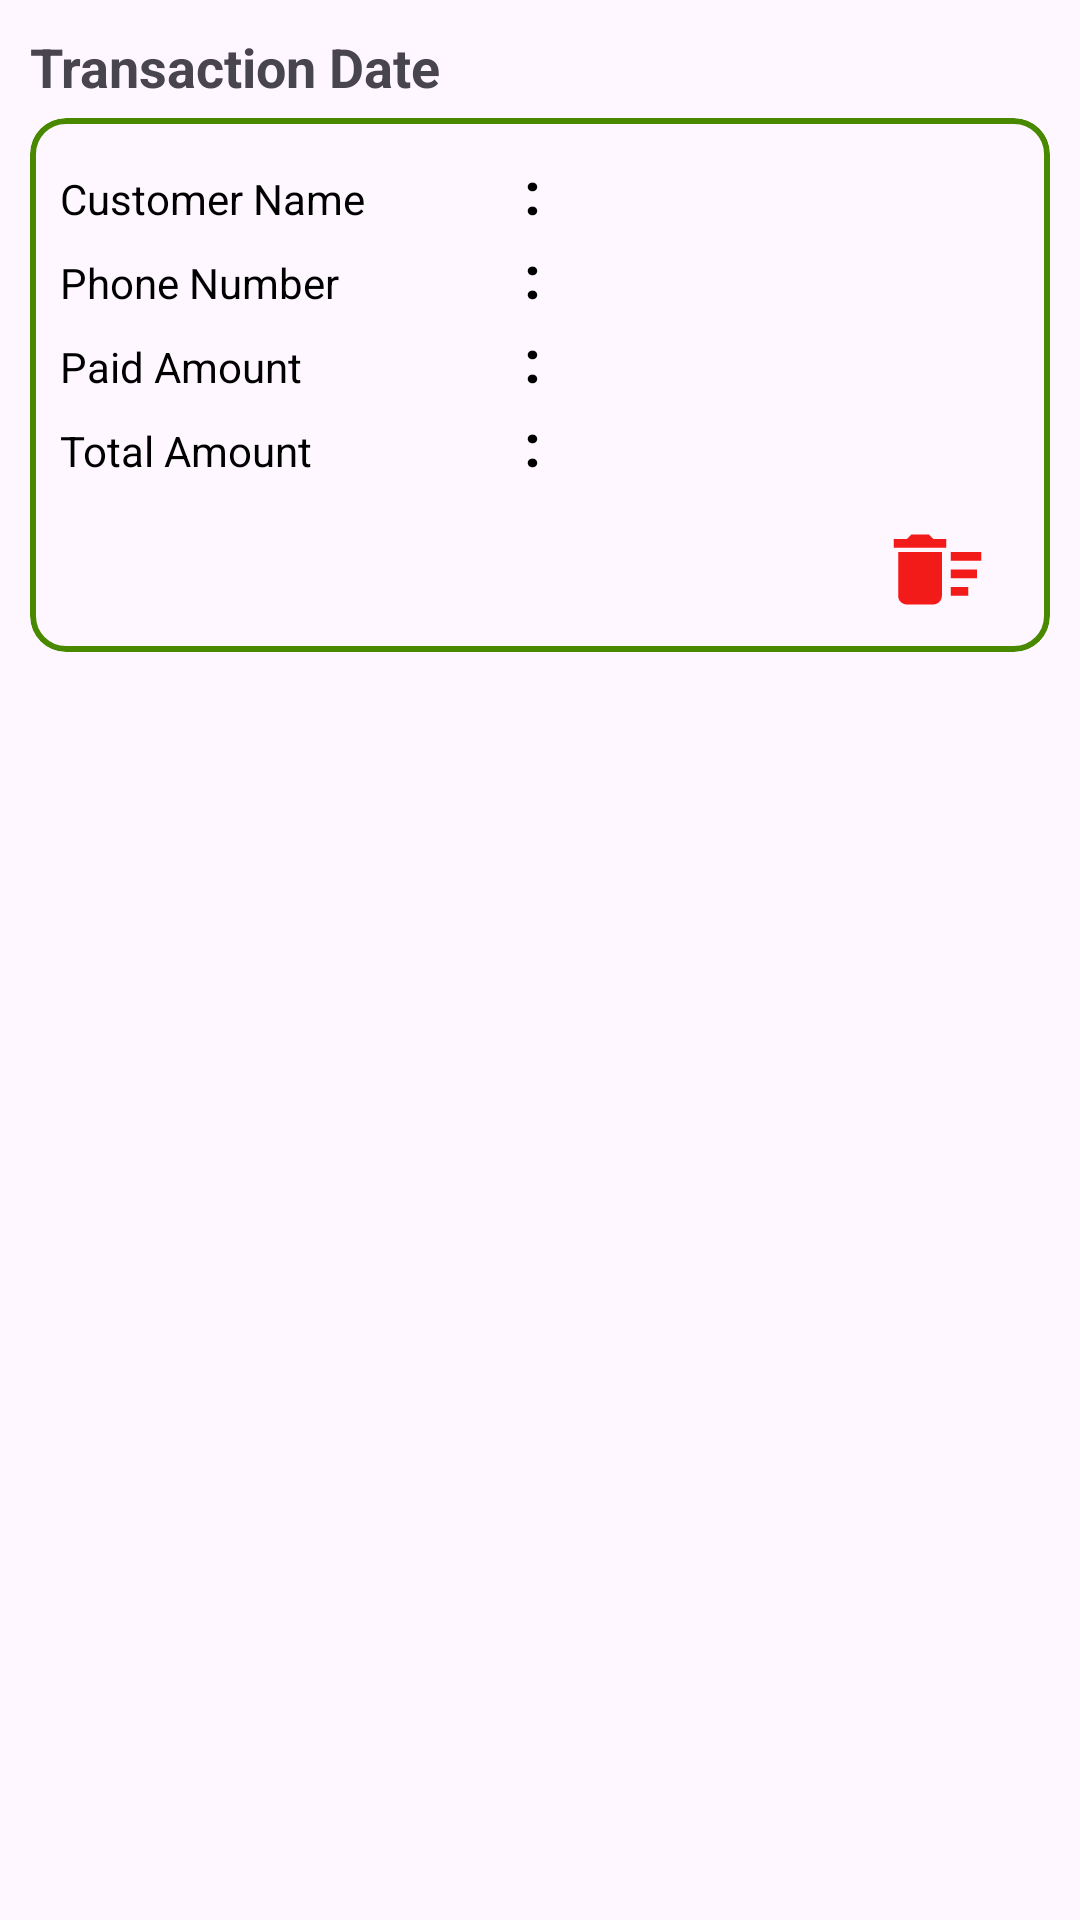

Screen size 1080w x 1920h. Icon name, then its box in pixels as (x1, y1, x2, y2):
delete sweep: (893, 534, 982, 605)
